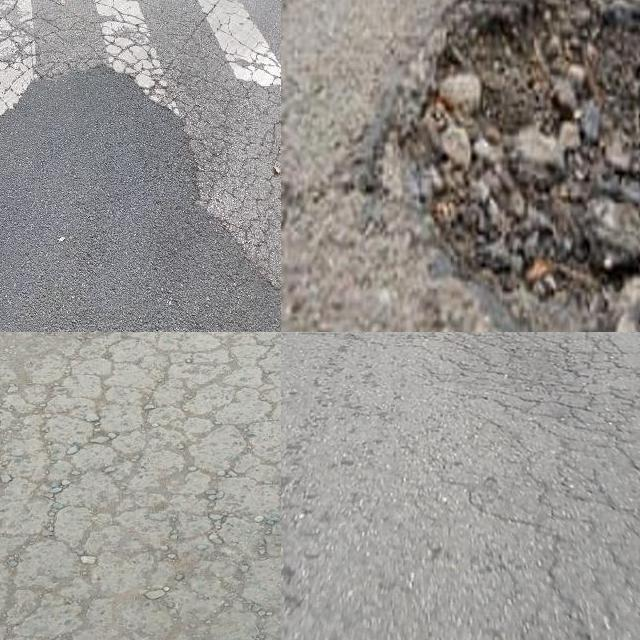Lubang: (391, 0, 640, 313)
Retak Buaya: (0, 332, 281, 640), (433, 332, 640, 623)
Sambungan: (0, 59, 281, 332)
